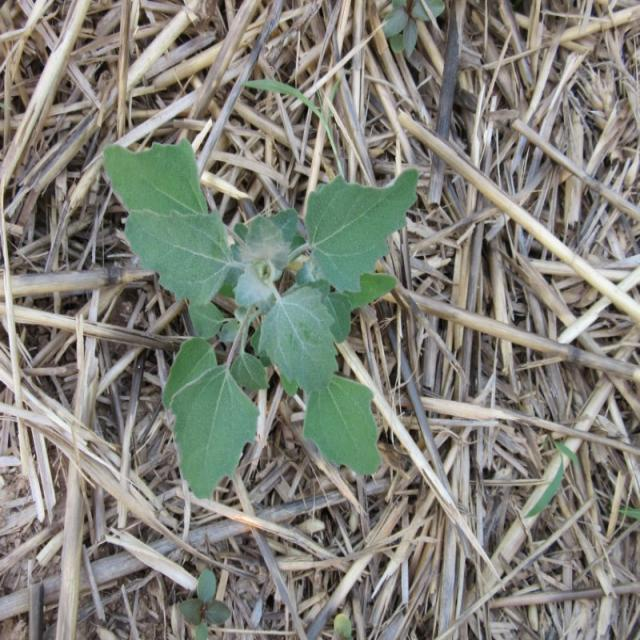ca: (104, 139, 422, 499)
